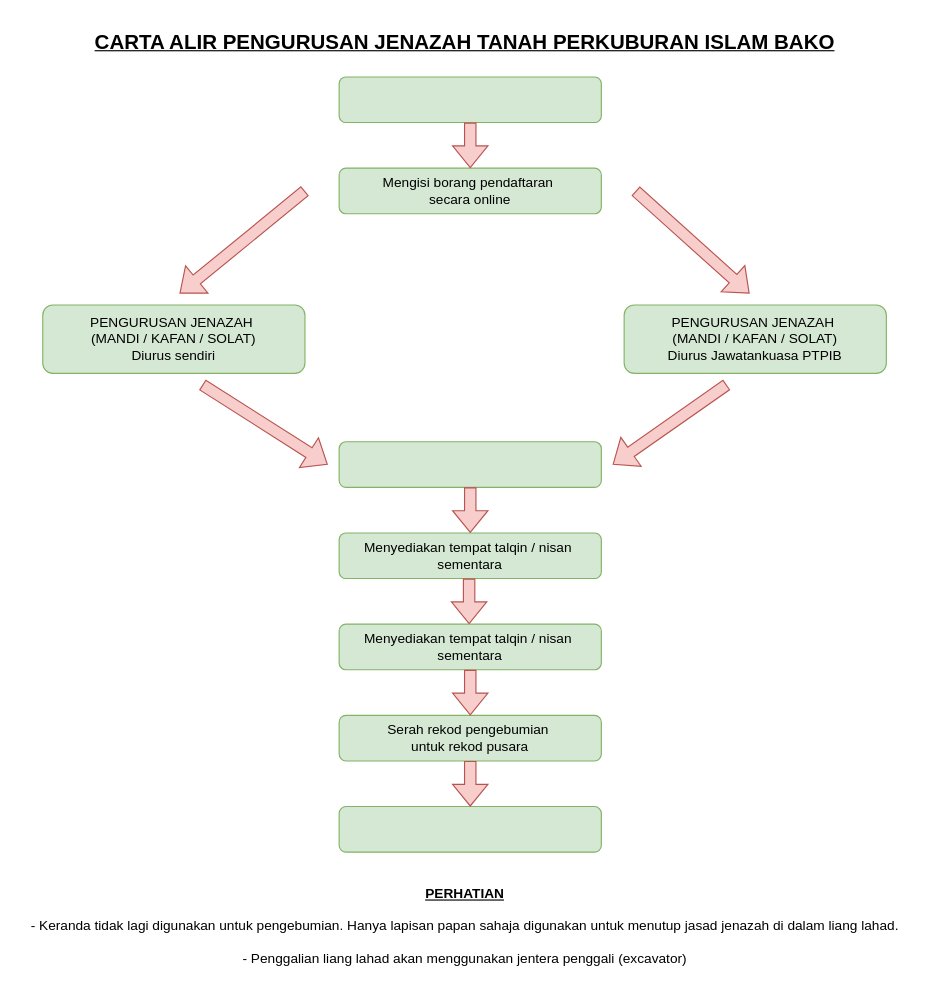
This 928x996 diagram has some shape labels left out. Each missing label, with the centre of its shape:
"Hubungi pihak pengurusan kubur" goes at [469,99].
"PENGEBUMIAN" goes at [469,464].
"Proses pembayaran pengurusan kubur" goes at [469,828].
